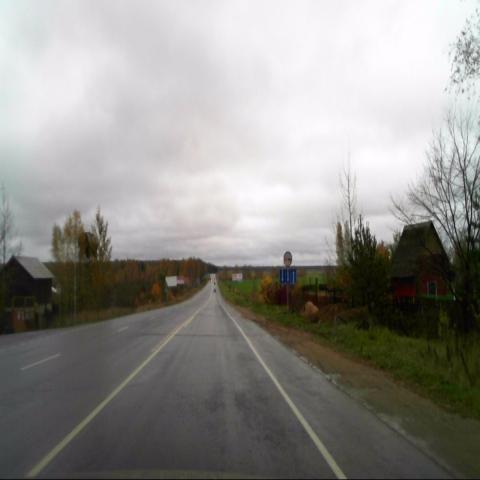5_15_7: (279, 267, 296, 284)
